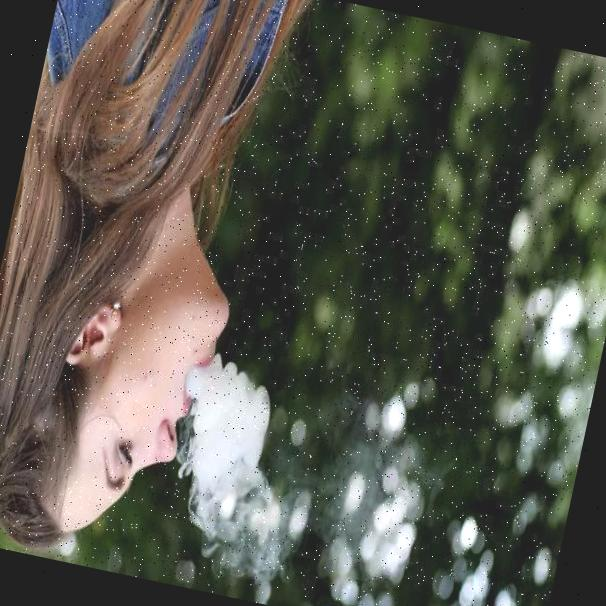smoke: (160, 359, 294, 548)
